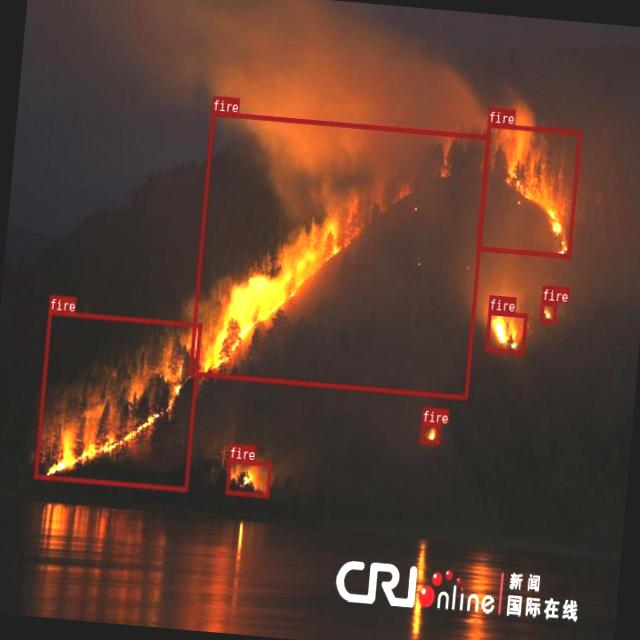fire: (188, 111, 490, 398), (33, 309, 201, 491), (475, 121, 580, 258), (484, 310, 526, 354), (224, 458, 271, 497), (418, 420, 439, 444), (538, 300, 556, 323)
